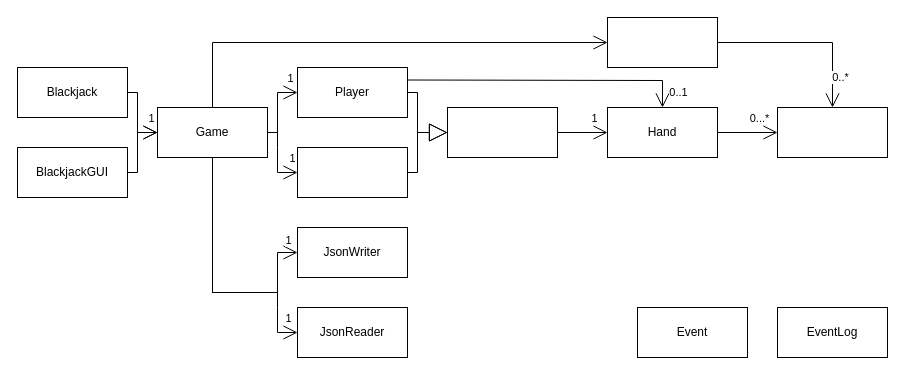
This 905x375 diagram has some shape labels left out. The centre of each missing label's shape, as x and y in pixels:
"<<abstract>> Person" goes at point 502,132.
"Card" goes at point 832,132.
"Dealer" goes at point 352,172.
"Deck" goes at point 662,42.
